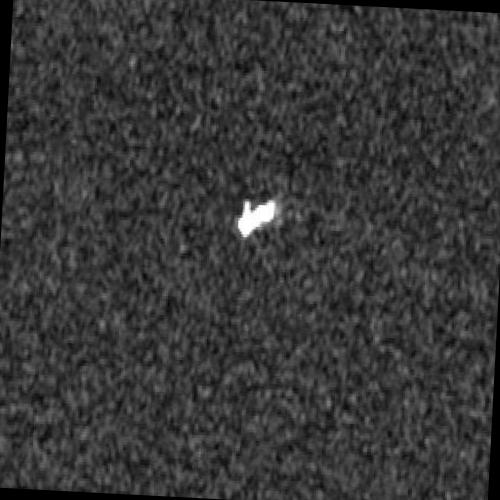ship: (236, 198, 275, 237)
